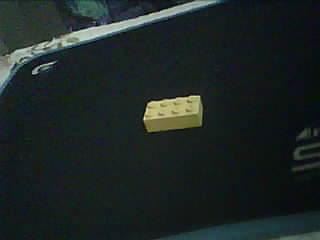lego: (142, 94, 204, 133)
